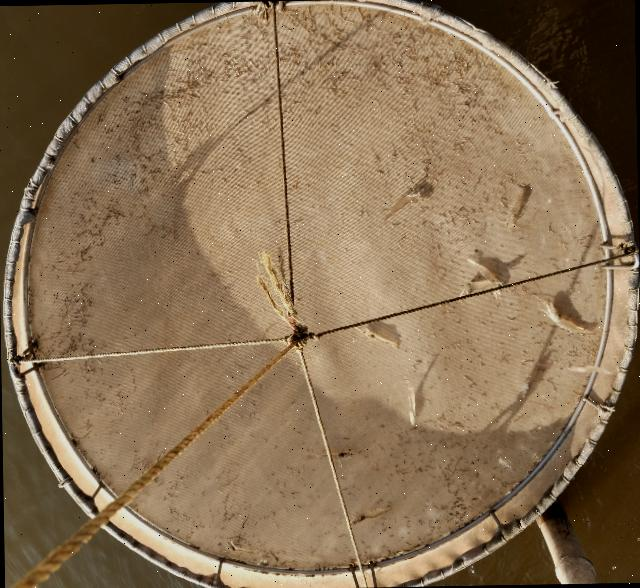shrimp: (544, 303, 593, 335), (467, 258, 499, 297), (384, 194, 427, 220), (459, 281, 503, 303), (349, 507, 393, 526), (522, 358, 542, 397), (507, 186, 525, 228), (403, 376, 416, 418), (360, 331, 394, 346), (308, 450, 354, 460)
